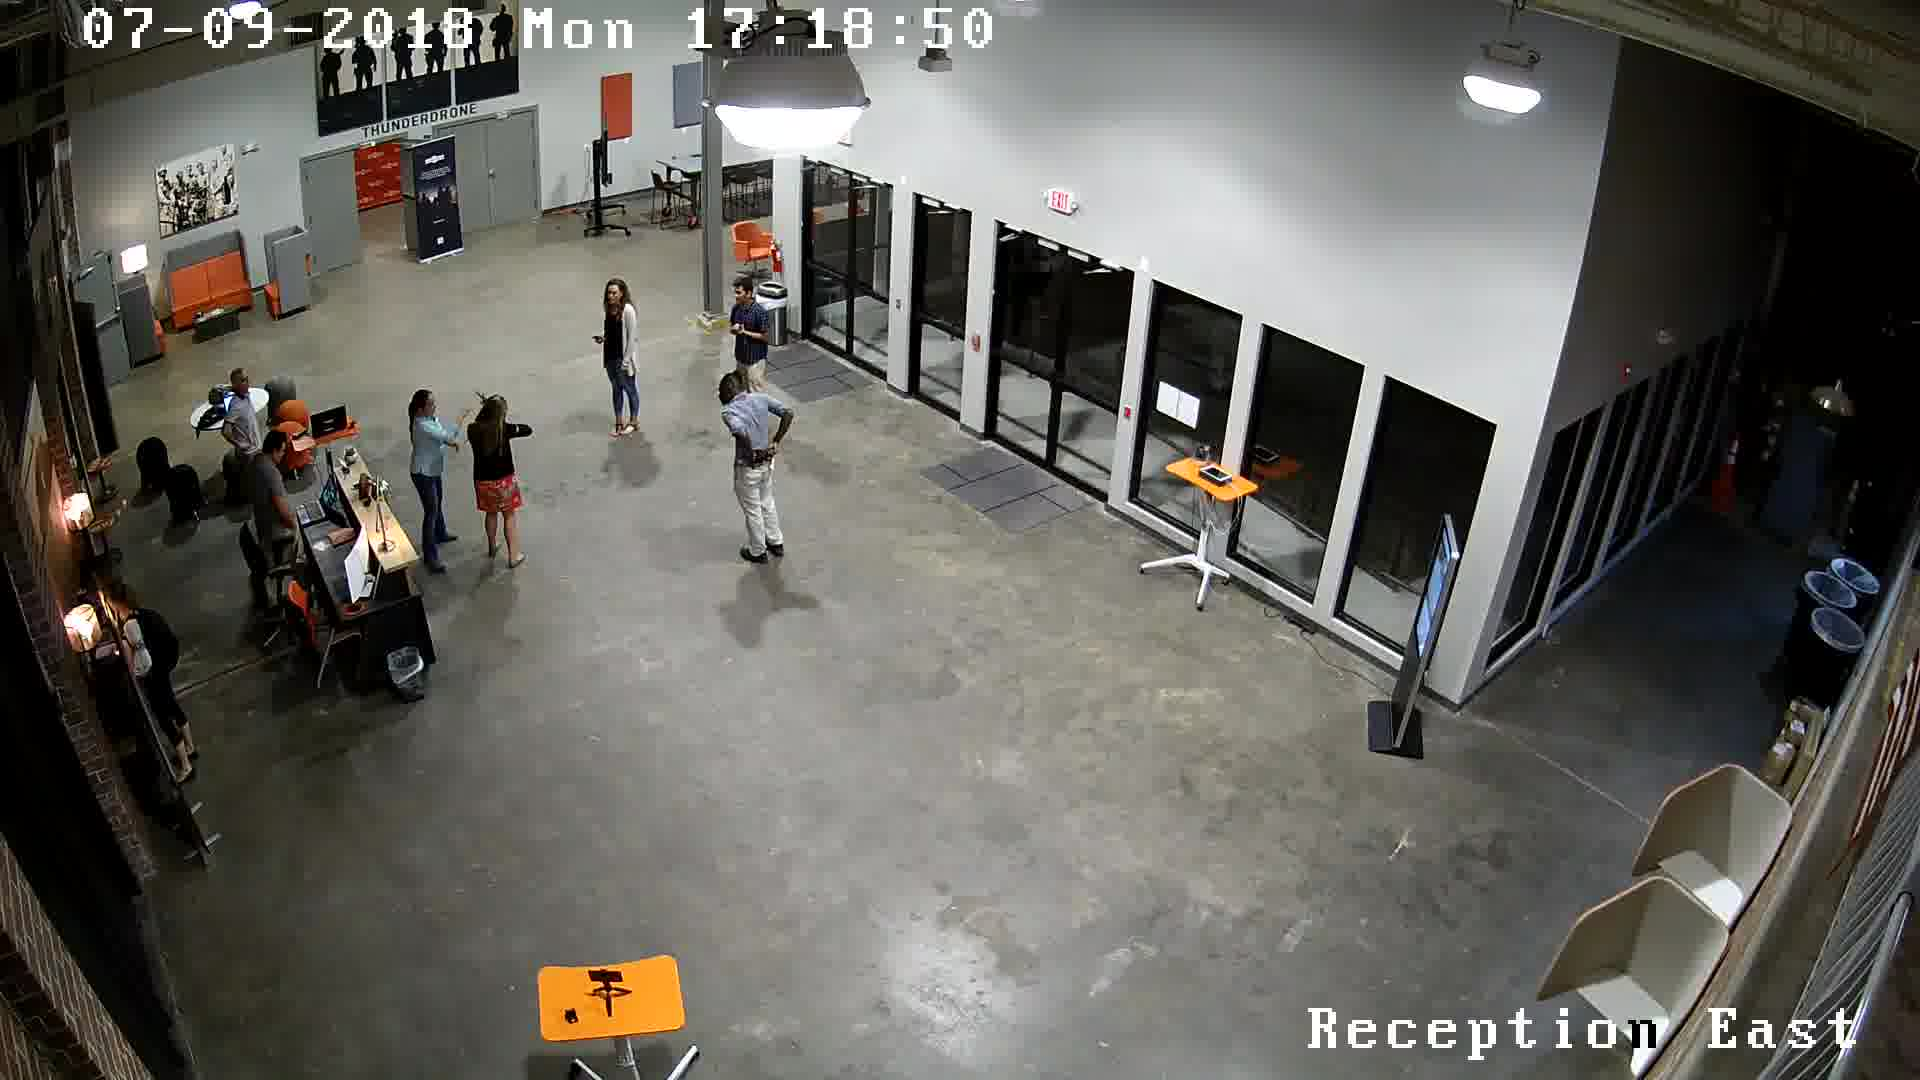pistol: (741, 429, 785, 476)
